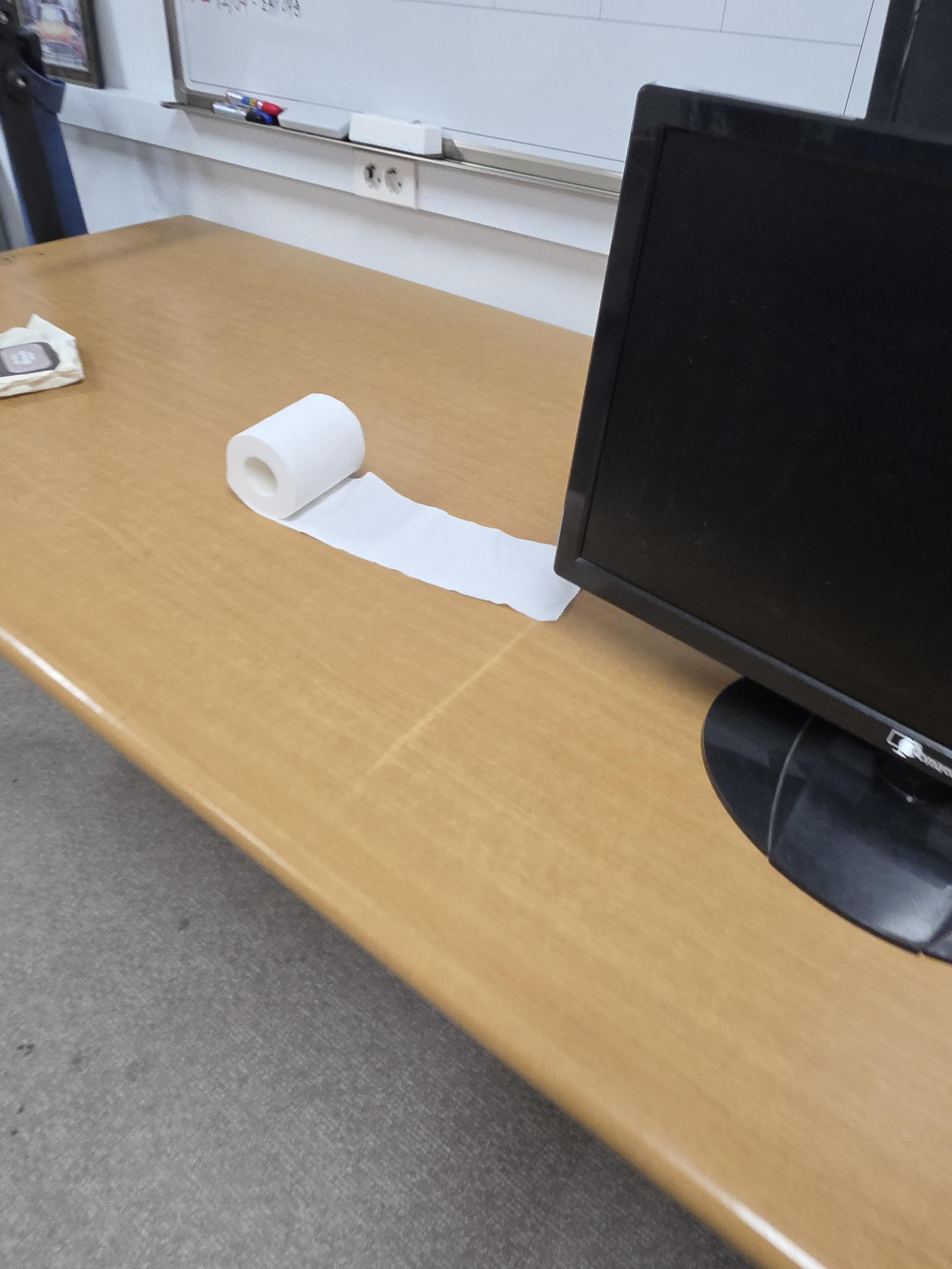tissue: (225, 393, 580, 623), (0, 314, 85, 400)
